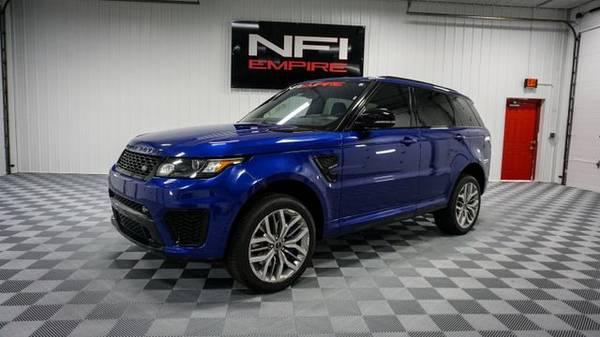Front_Bumper: (106, 163, 257, 259)
Front_Fender: (239, 142, 336, 237)
Front_Left_Door: (331, 127, 414, 237)
Front_Left_Window: (341, 81, 411, 131)
Front_Windshield: (233, 84, 365, 134)
Grille: (110, 149, 164, 179)
Hood: (123, 124, 340, 158)
Left_Headlight: (151, 158, 249, 182)
Rear_Fender: (446, 92, 490, 182)
Rear_Left_Door: (413, 127, 465, 212)
Rear_Left_Window: (408, 86, 457, 128)
Roof: (297, 76, 465, 133)
Wheel: (233, 190, 318, 286), (435, 172, 484, 233)
